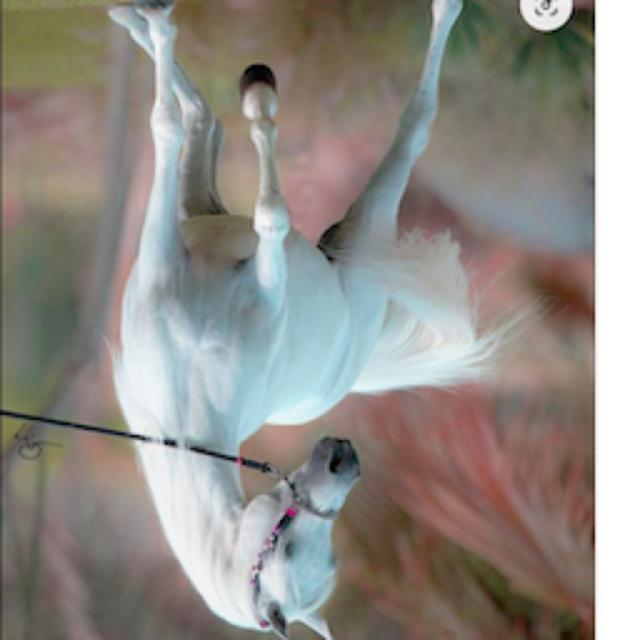Horse: (95, 2, 533, 640)
